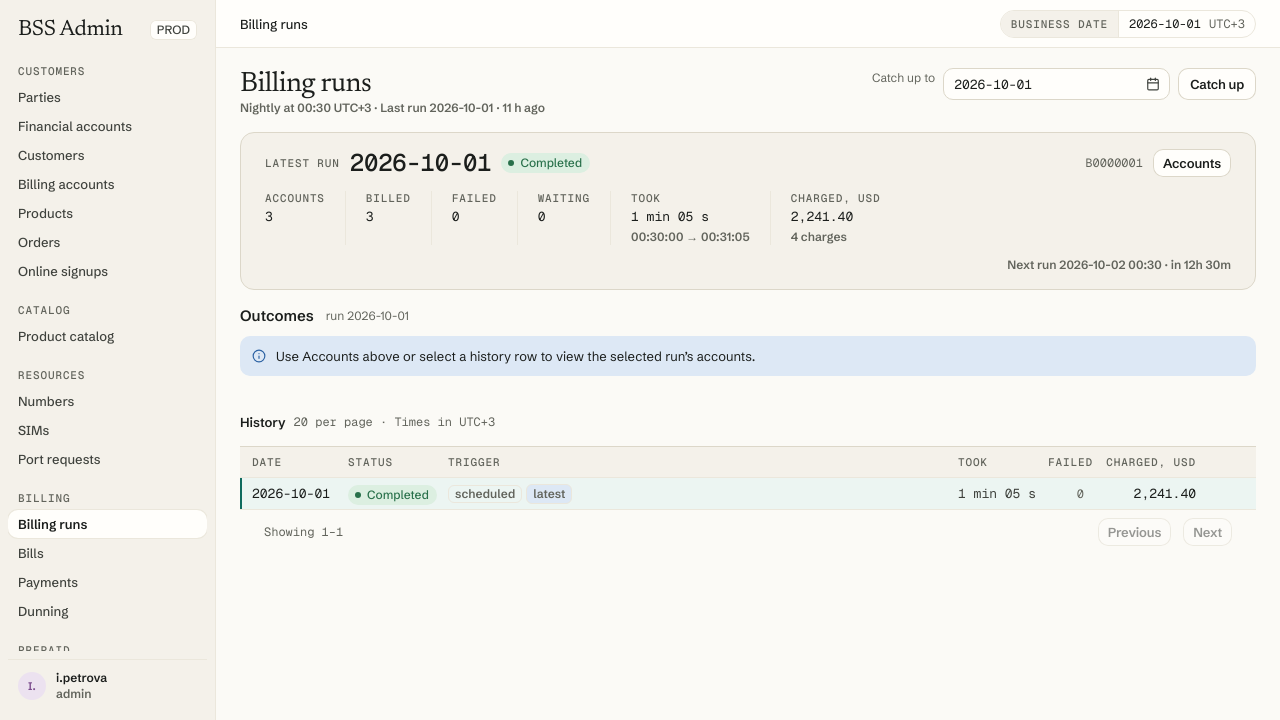
Test: billing runs: catch up to a date › shows the server reason for a 422
The image size is (1280, 720).
Check: the element "Latest run" is shown, box [240,132,1256,290]
Click the button "Catch up" at (1217, 84), box [1178,68,1256,100]
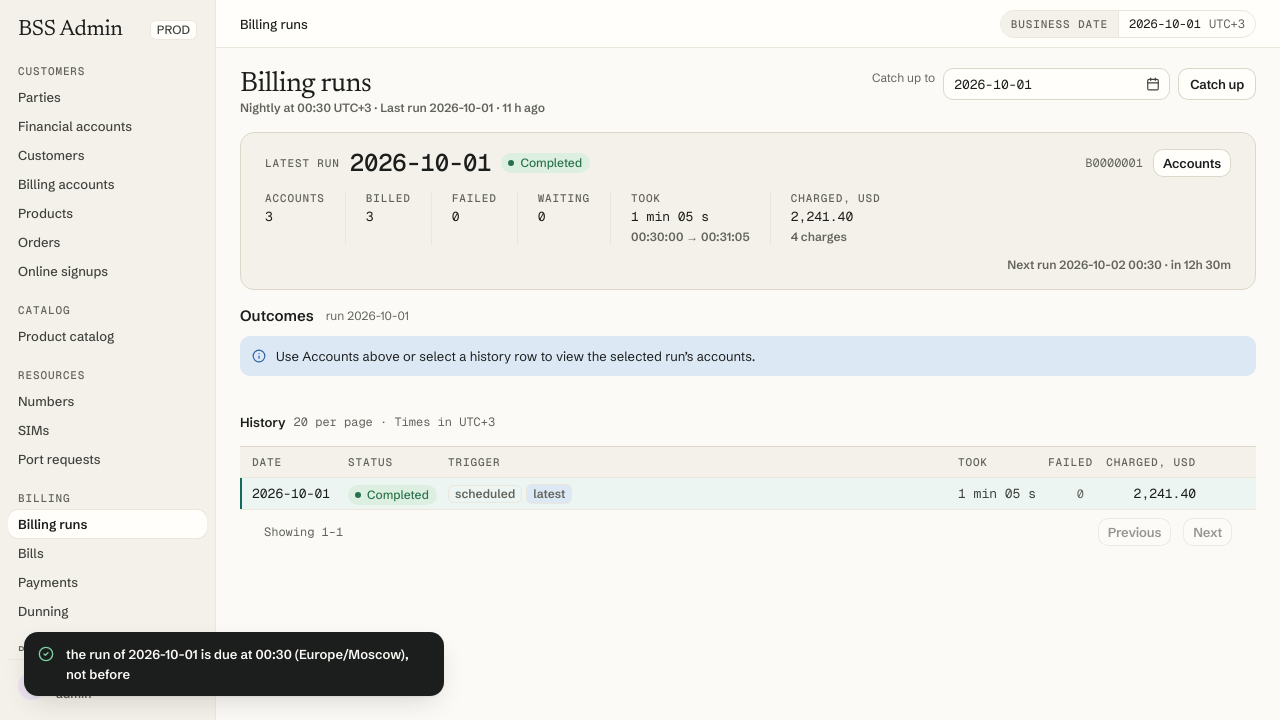
Check: the text "the run of 2026-10-01 is due at 00:30 (Europe/Moscow), not before" is shown, box [66,644,430,684]
